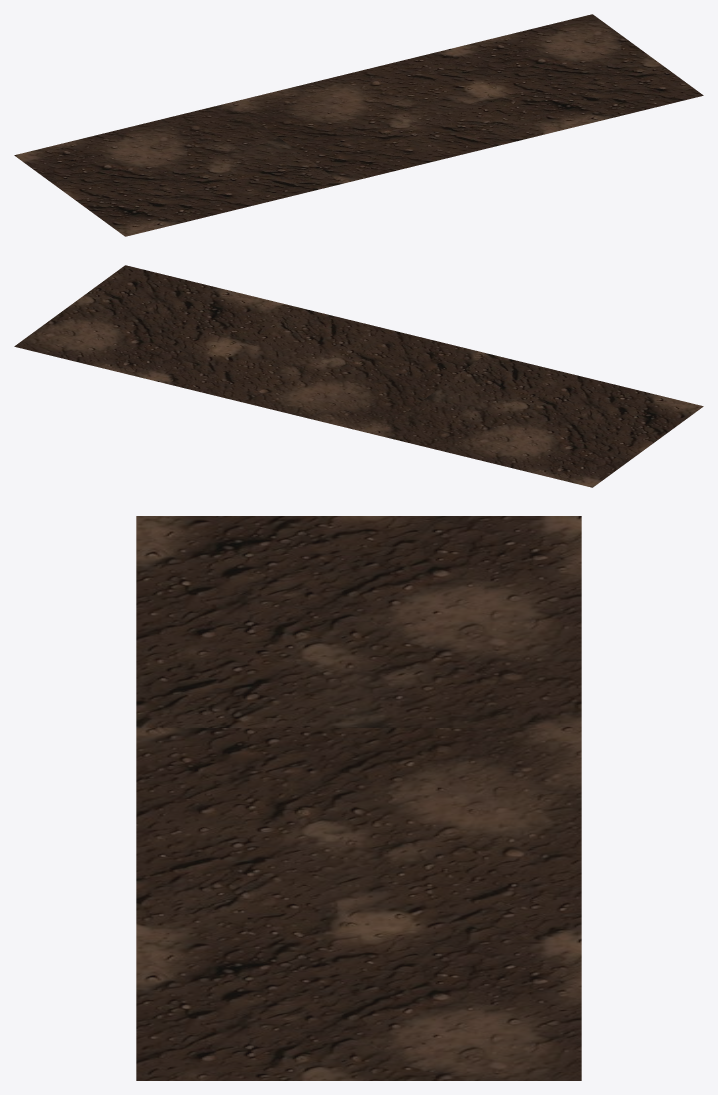
Rendered from floor_2_-4.glb.
The picture shows the model from 3 angles, top to bottom: view 1: azimuth 30°, elevation 25°; view 2: azimuth 150°, elevation 25°; view 3: azimuth 270°, elevation 25°; orthographic projection. The views are drawn at different scales.
Parts seen in each view (by area): view 1: floor_2_-4; view 2: floor_2_-4; view 3: floor_2_-4.
Boxes of the visible parts, box(x1,y1,x2,y2) form: floor_2_-4: box(14, 14, 703, 236); floor_2_-4: box(14, 265, 703, 487); floor_2_-4: box(136, 516, 581, 1080).
Bounding box in the file's own units: 24 × 0 × 8.
1 material, 1 textured.
